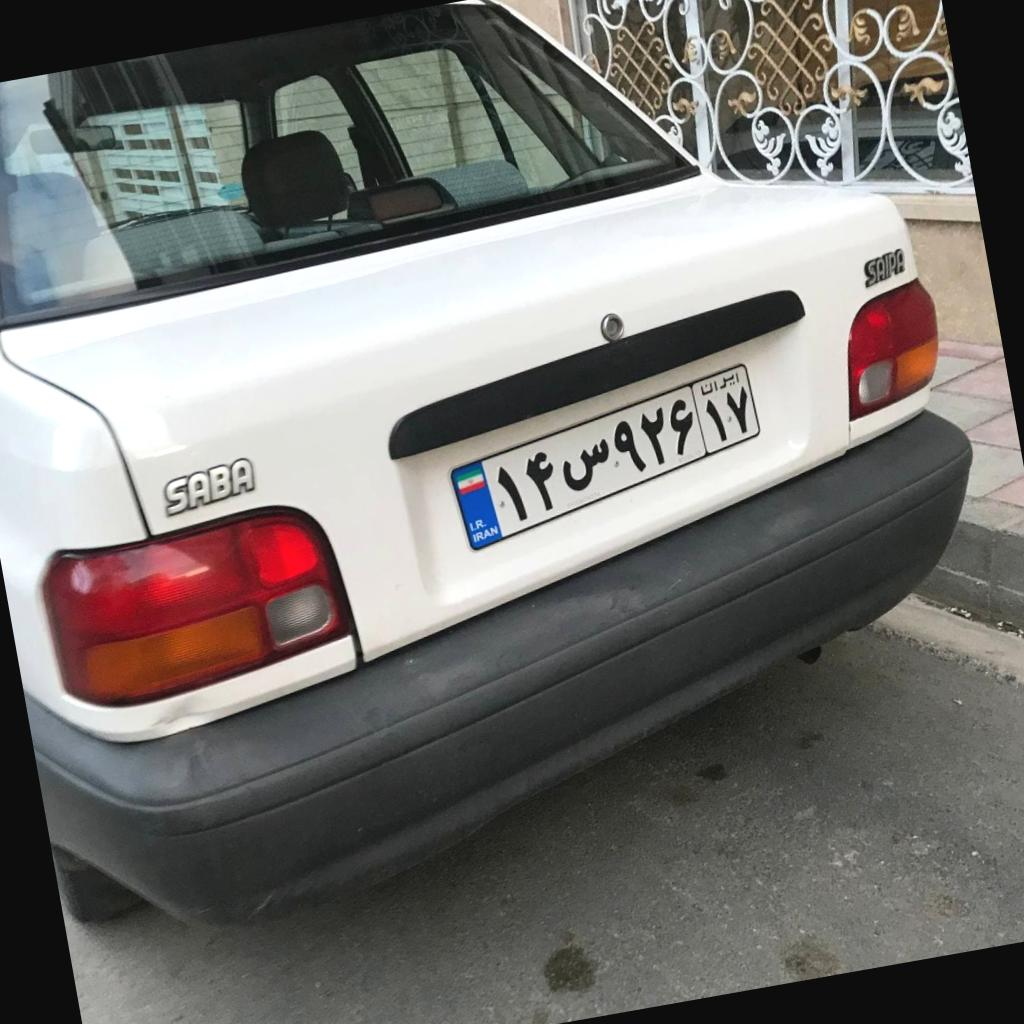Plates: (450, 362, 761, 550)
